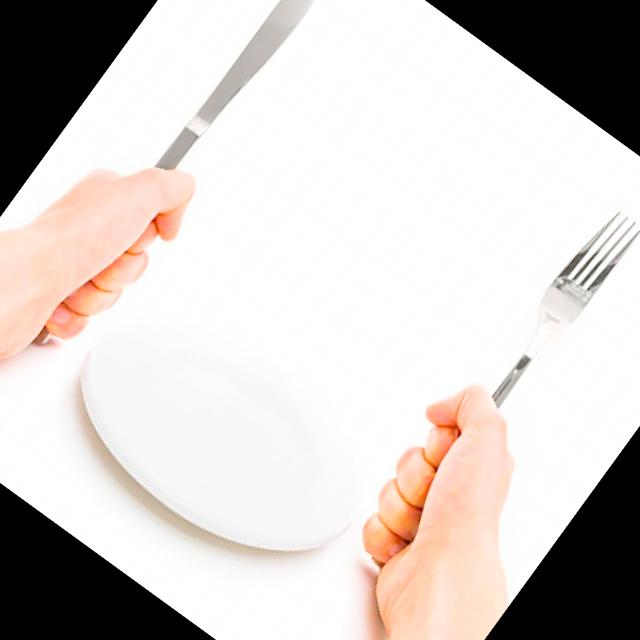fork: (355, 200, 640, 578)
